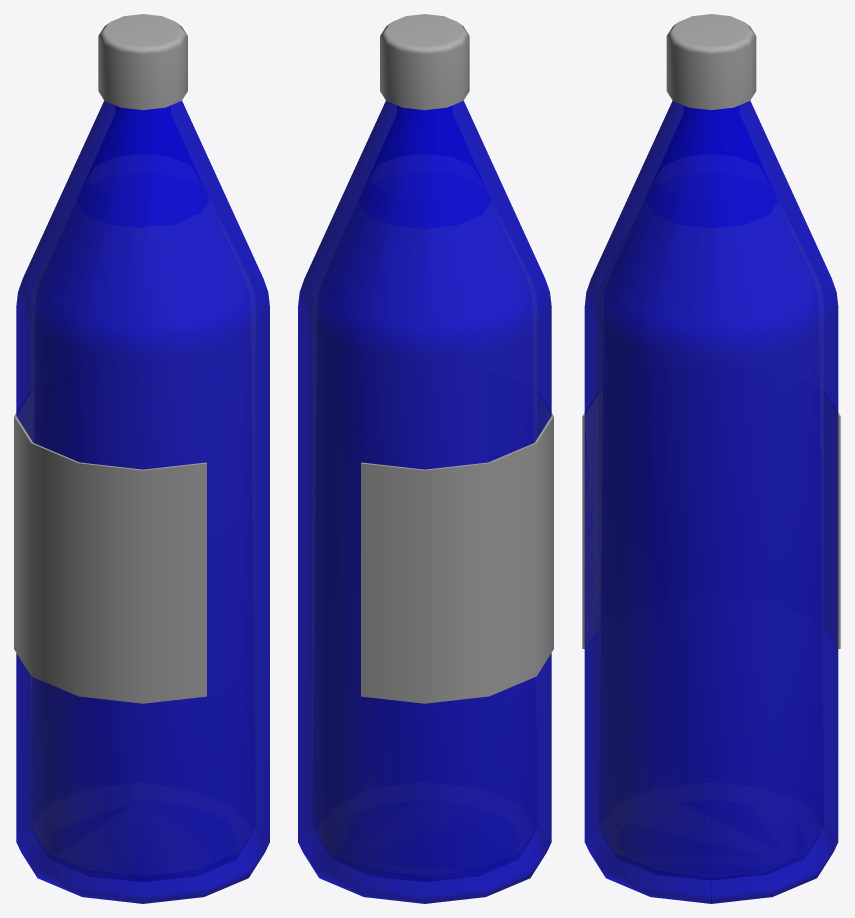
File: WaterBottle.fbx
3 views of the same model, side by side, from view 1: azimuth 30°, elevation 25°; view 2: azimuth 150°, elevation 25°; view 3: azimuth 270°, elevation 25° (orthographic).
Visible parts, largest first — view 1: WaterBottle, WaterBottleCap; view 2: WaterBottle, WaterBottleCap; view 3: WaterBottle, WaterBottleCap.
Boxes of the visible parts, x1,y1,x2,y2 form: WaterBottle: (14, 100, 269, 903); WaterBottleCap: (98, 14, 187, 110); WaterBottle: (298, 100, 553, 903); WaterBottleCap: (380, 14, 469, 110); WaterBottle: (582, 100, 840, 903); WaterBottleCap: (666, 14, 756, 110).
Size of the model in its own units: 0.0845 by 0.3013 by 0.0853.
